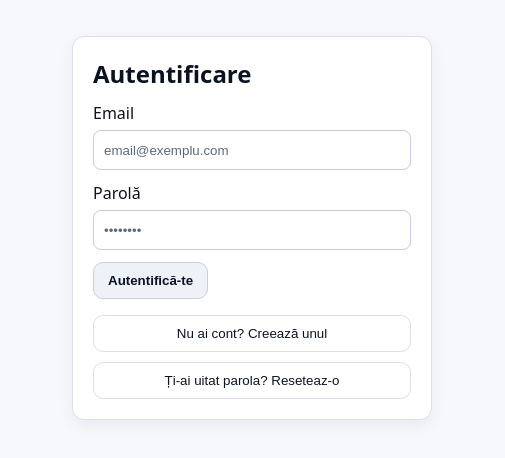
it: AuthPage › apelează resetPasswordForEmail când există email
Type "reset@mail.com" into the field with placeholder "email@exemplu.com".
click(252, 150); type("reset@mail.com")  # box [93, 130, 411, 170]
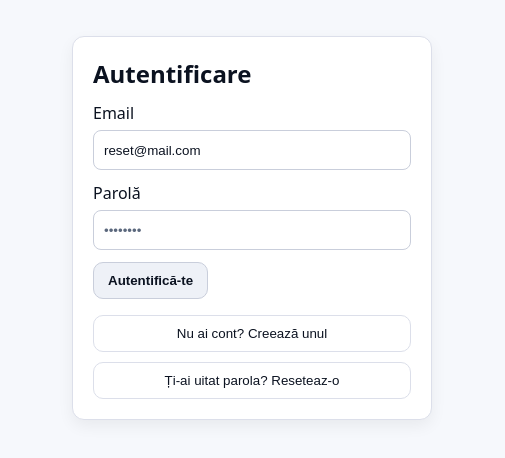
Click the button "Ți-ai uitat parola? Reseteaz-o".
click(252, 380)  # box [93, 362, 411, 399]
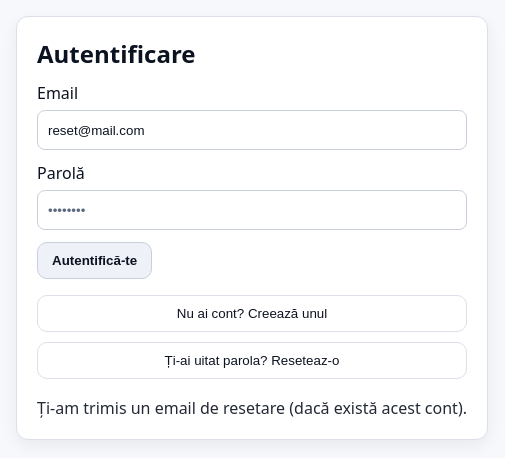
Check: the text "Ți-am trimis un email de resetare (dacă există acest cont)." is shown, box [37, 397, 467, 419]
